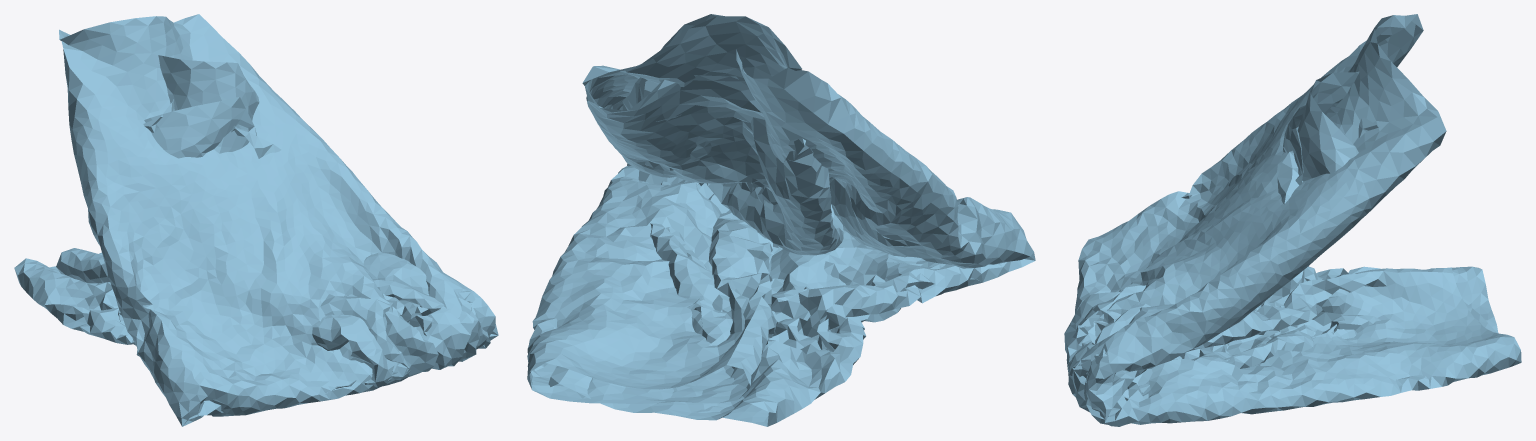
Rendered from frame_17.glb.
3 renders of one model, left to right at view 1: azimuth 30°, elevation 25°; view 2: azimuth 150°, elevation 25°; view 3: azimuth 270°, elevation 25°, orthographic. The views are drawn at different scales.
Parts seen in each view (by area): view 1: frame_17.obj; view 2: frame_17.obj; view 3: frame_17.obj.
Boxes of the visible parts, x1,y1,x2,y2 form: frame_17.obj: (14,14,498,426); frame_17.obj: (527,14,1035,426); frame_17.obj: (1064,14,1521,426).
Bounding box in the file's own units: 0.8582 × 0.7326 × 1.02.
